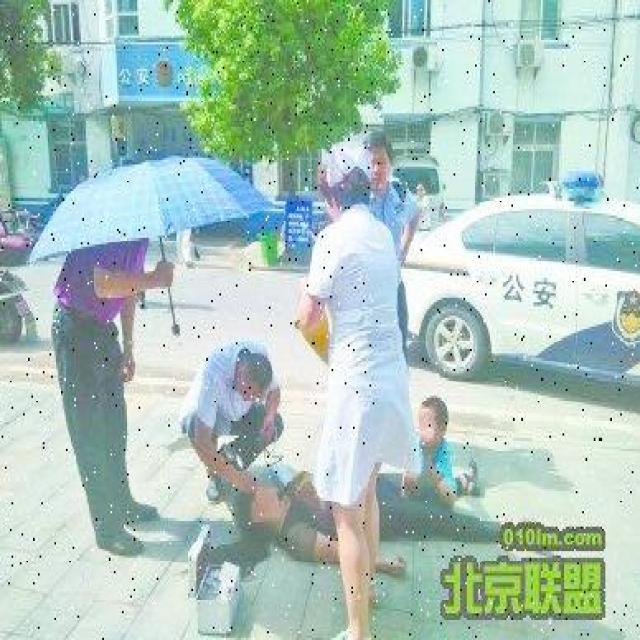fall: (232, 460, 556, 580)
